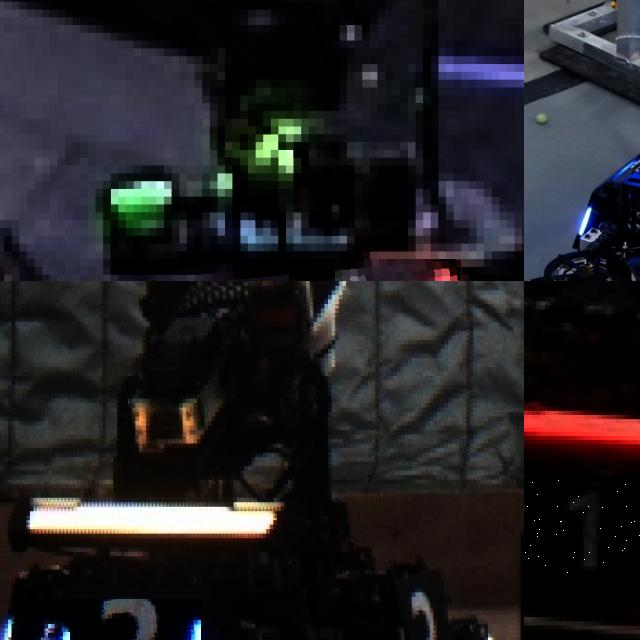B3: (48, 599, 200, 640)
R1: (524, 476, 640, 573)
R4: (194, 259, 461, 281)
